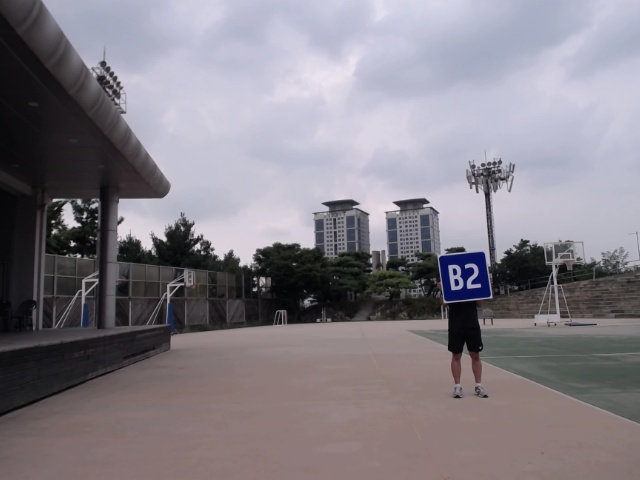delivery_b2: (436, 252, 492, 303)
